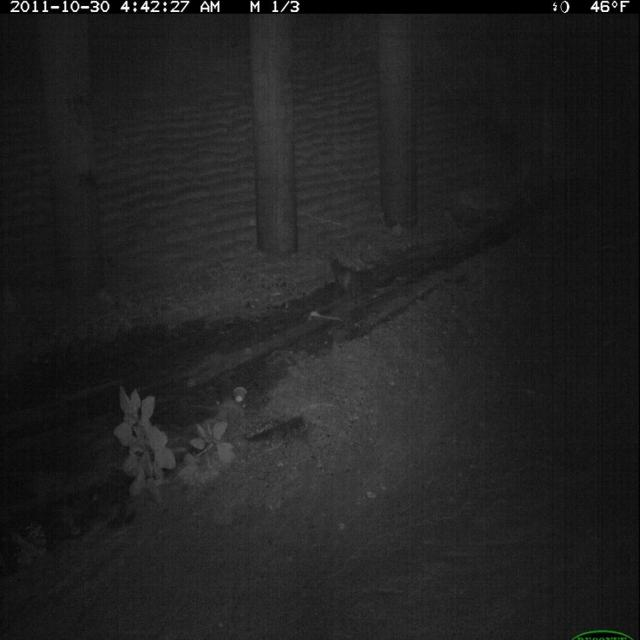cat: (326, 253, 367, 305)
